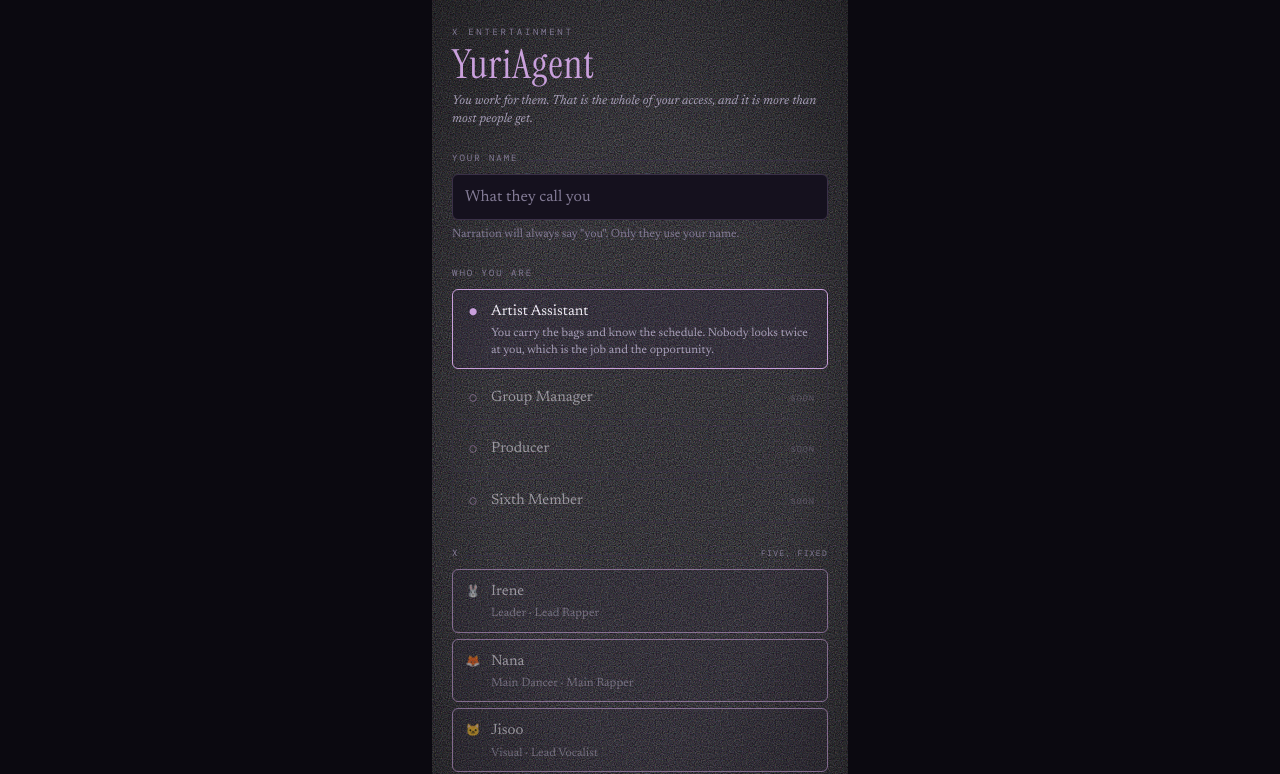
save slots › writes the run into a slot the player picked
Type "Yuhan" into the field. click: (640, 197)
box: x1=452 y1=174 x2=828 y2=220
(page scrolled)
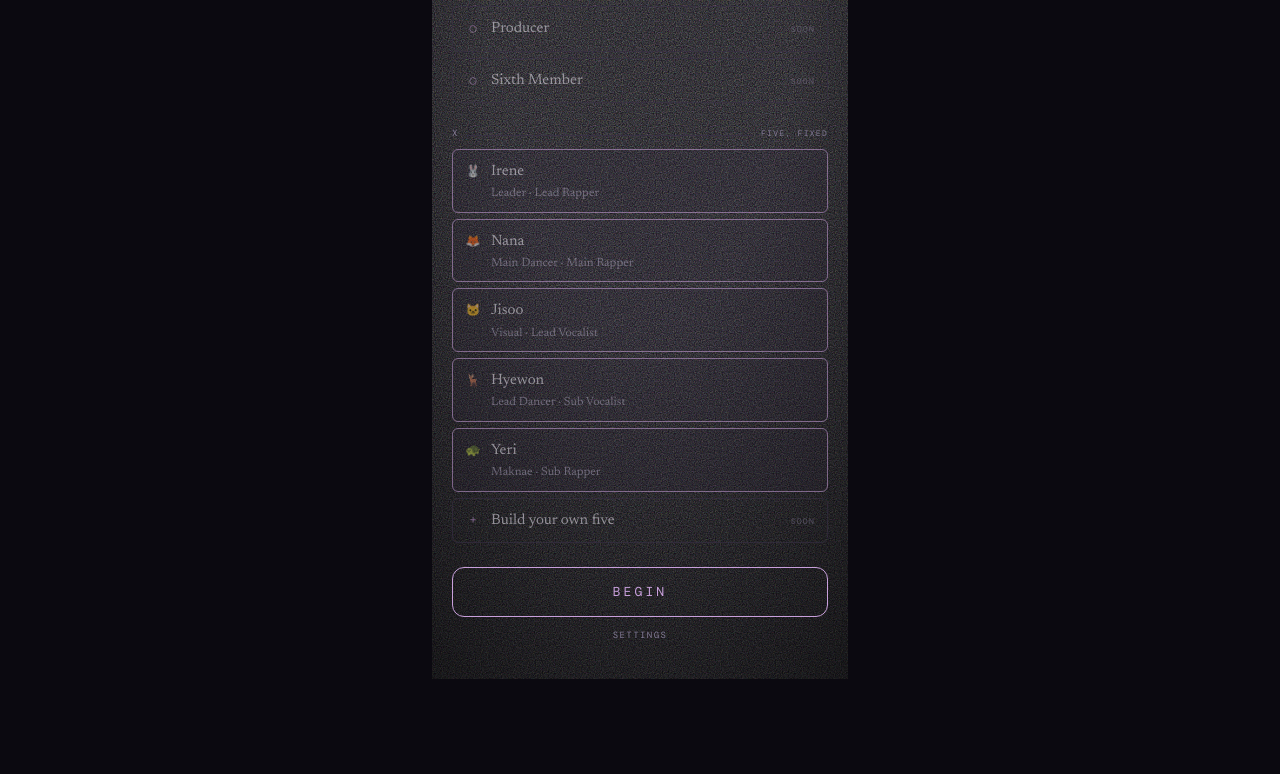
Click the button "Begin". click: (640, 592)
box: x1=452 y1=567 x2=828 y2=617
(page scrolled)
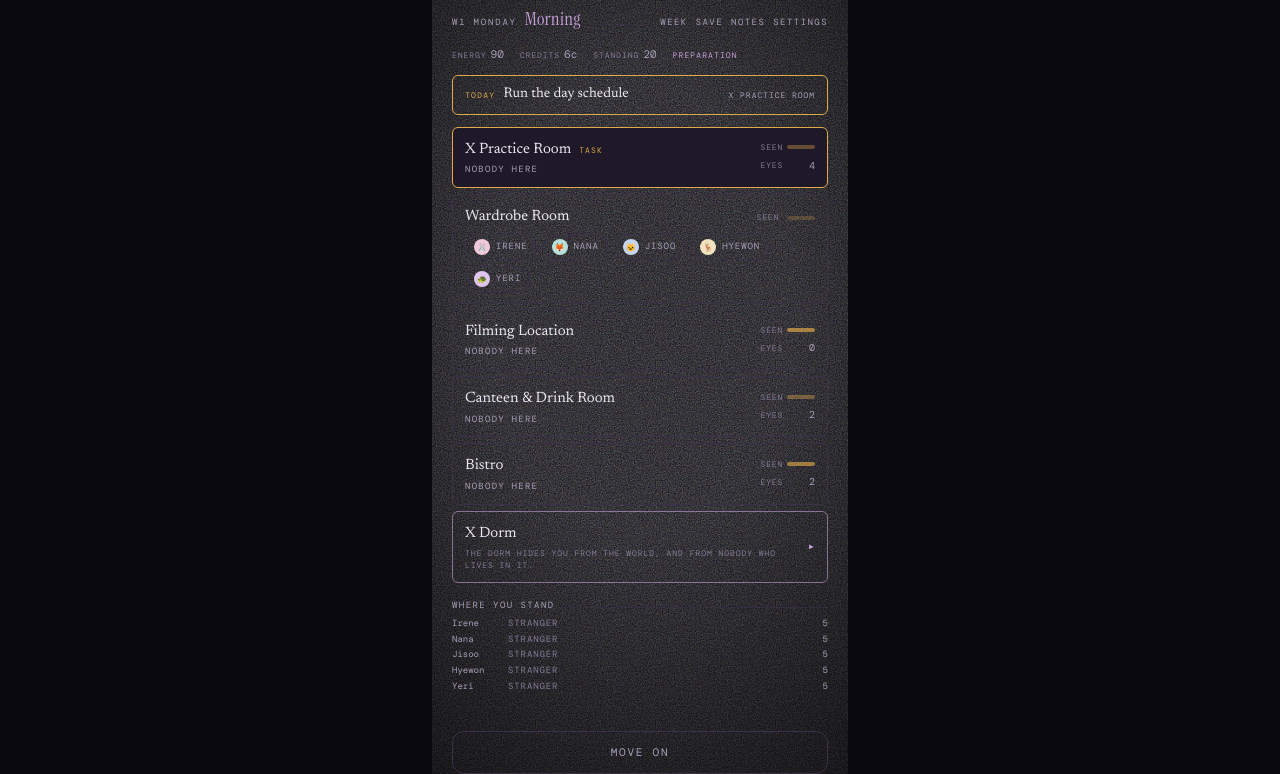
Now the button "Week" is shown, box x1=660 y1=16 x2=688 y2=30
Click the button "Save". click: (709, 23)
box: x1=696 y1=16 x2=723 y2=30
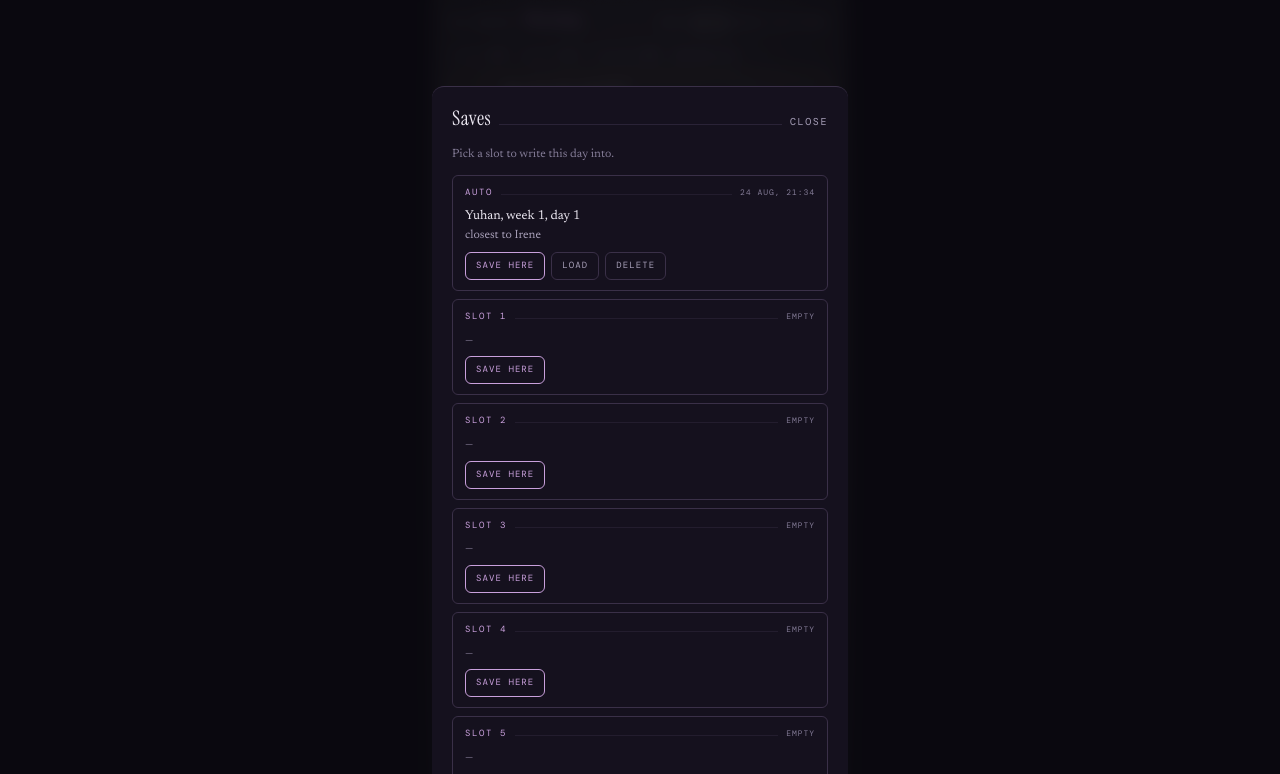
Now the text "Pick a slot to write this day into." is shown, box x1=452 y1=148 x2=614 y2=160
Click the button "Save here" below "Slot 1". click: (505, 370)
box: x1=465 y1=356 x2=545 y2=384
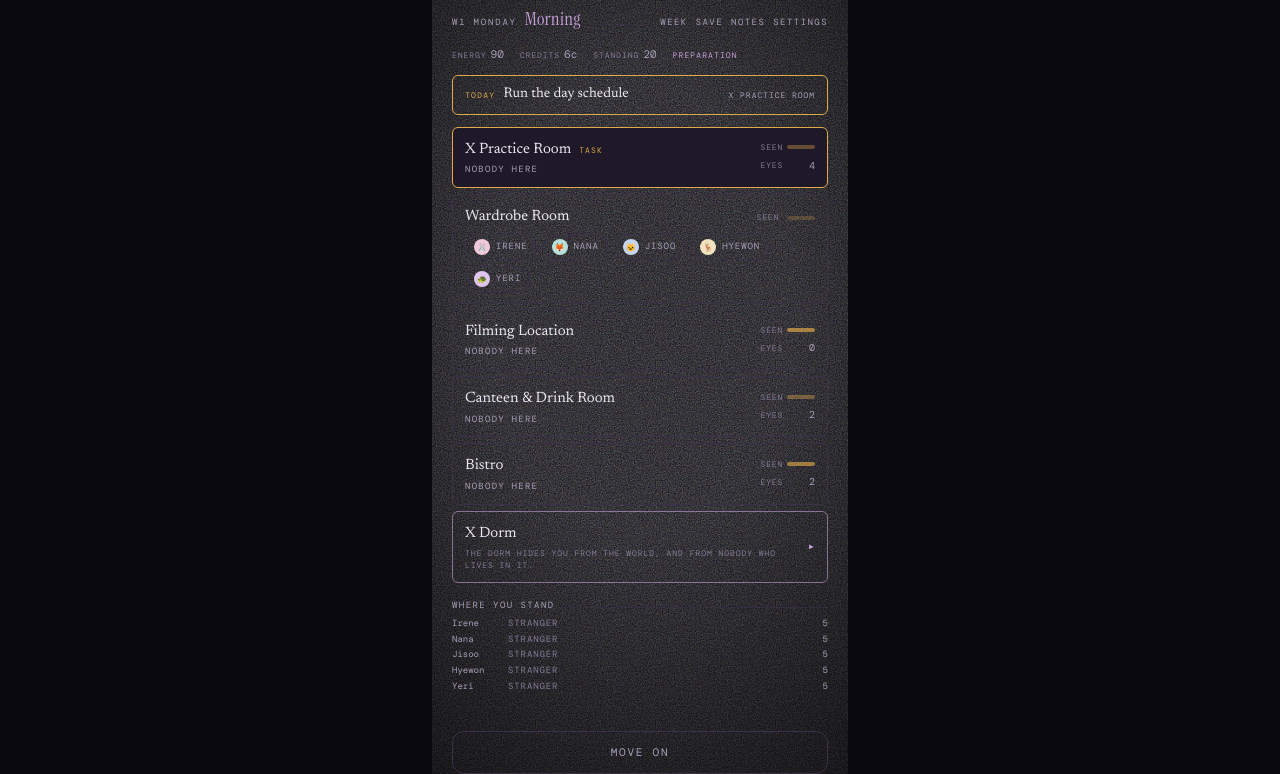
Now the text "Pick a slot to write this day into." is gone
